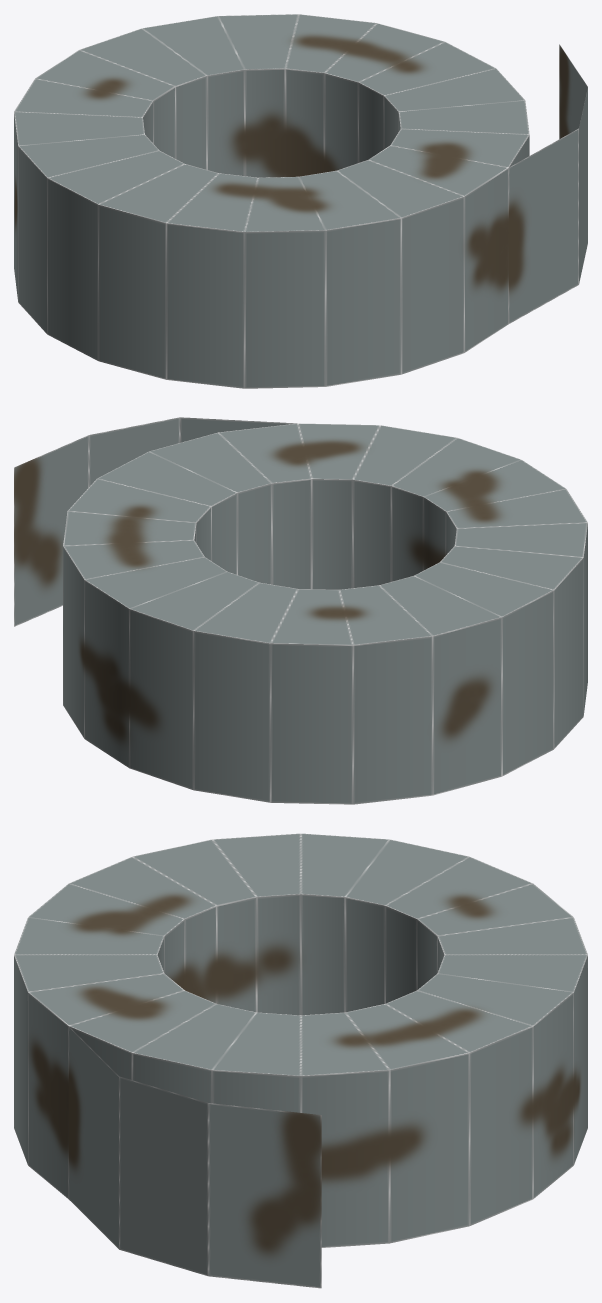
The model's file is c_tape.fbx.
3 views of the same model, one above another, from view 1: azimuth 30°, elevation 25°; view 2: azimuth 150°, elevation 25°; view 3: azimuth 270°, elevation 25° (orthographic). The views are drawn at different scales.
Parts seen in each view (by area): view 1: Tape; view 2: Tape; view 3: Tape.
Boxes of the visible parts, box(x1,y1,x2,y2) form: Tape: box(14, 14, 587, 388); Tape: box(14, 417, 587, 804); Tape: box(14, 833, 587, 1288).
Size of the model in its own units: 13.93 by 4 by 12.
